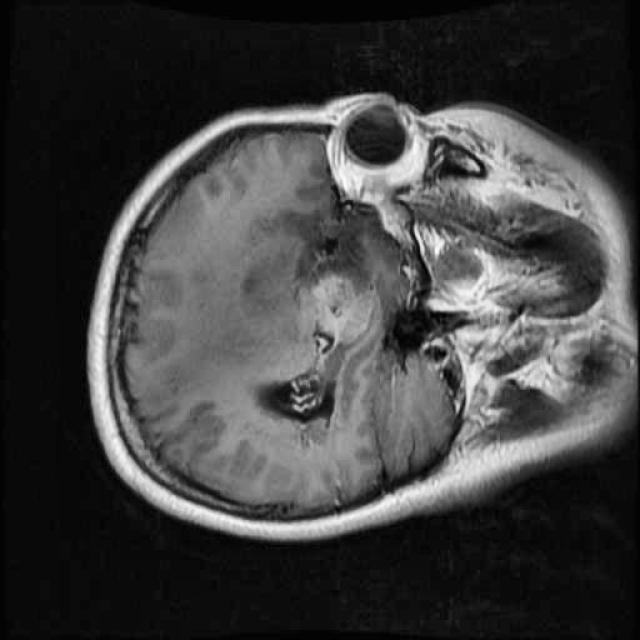Tumor: (276, 198, 386, 332)
